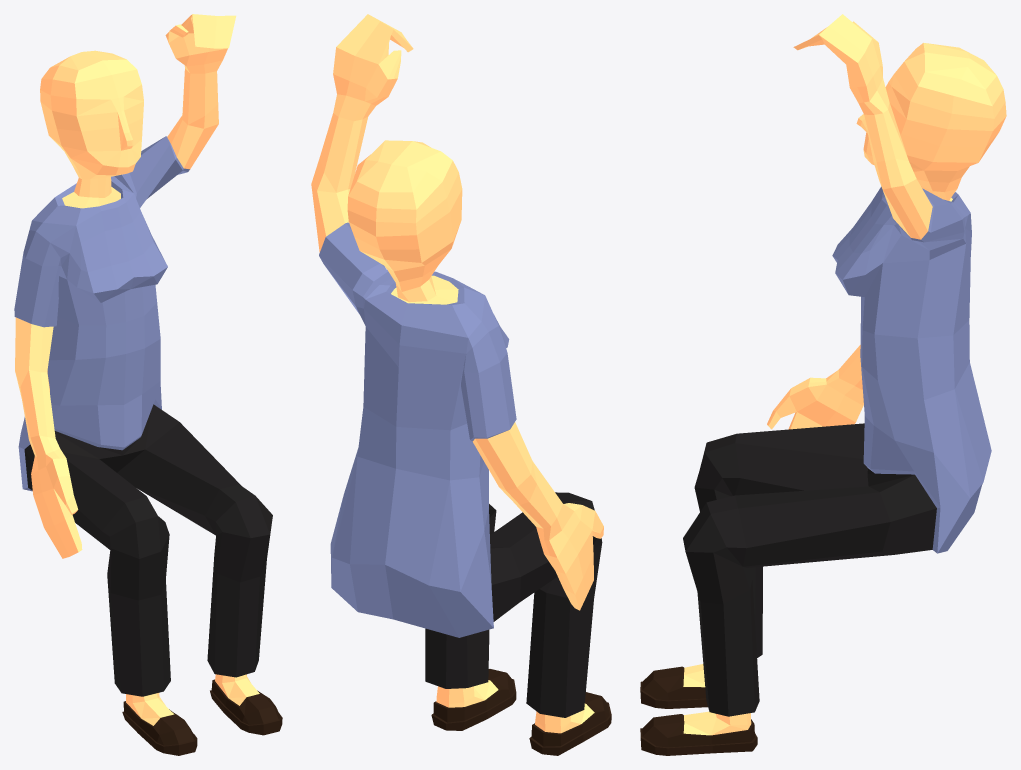
The model's file is female_sitting_cheering.glb.
The picture shows the model from 3 angles, left to right: view 1: azimuth 30°, elevation 25°; view 2: azimuth 150°, elevation 25°; view 3: azimuth 270°, elevation 25°; orthographic projection. The views are drawn at different scales.
Visible parts, largest first — view 1: Female_Sitting_Cheering; view 2: Female_Sitting_Cheering; view 3: Female_Sitting_Cheering.
Boxes of the visible parts, x1=… form: Female_Sitting_Cheering: x1=14, y1=14, x2=282, y2=755; Female_Sitting_Cheering: x1=311, y1=14, x2=611, y2=755; Female_Sitting_Cheering: x1=640, y1=14, x2=1006, y2=755.
Size of the model in its own units: 0.6105 by 1.85 by 0.8328.
